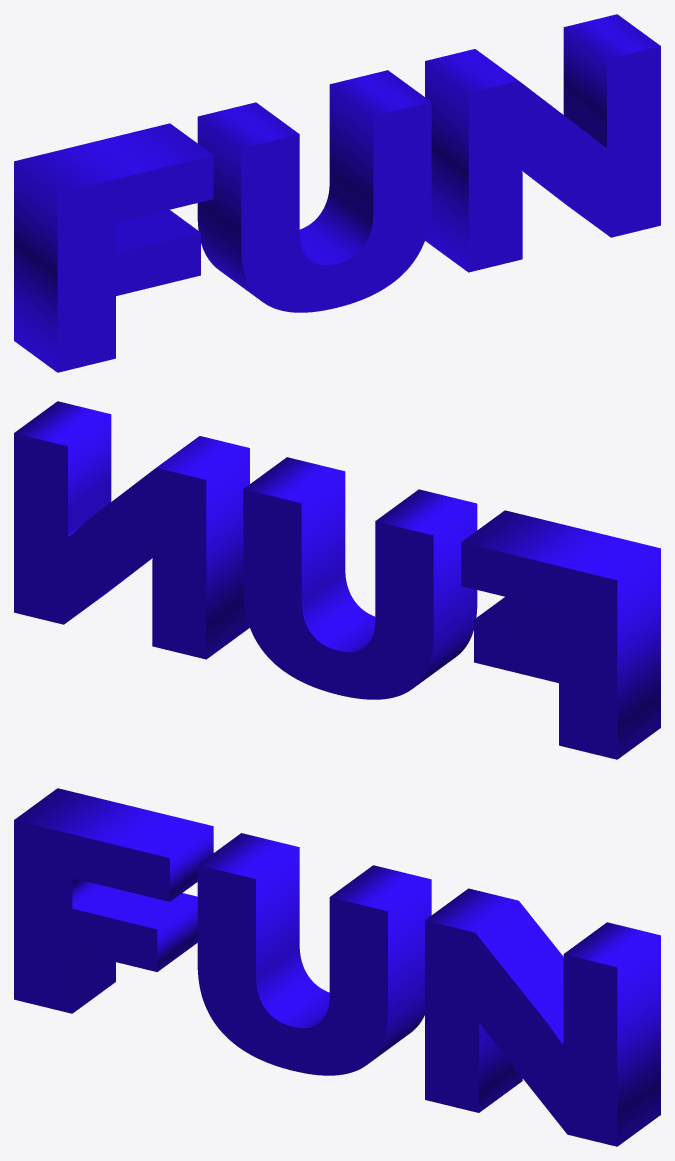
File: fun.glb
The picture shows the model from 3 angles, top to bottom: view 1: azimuth 30°, elevation 25°; view 2: azimuth 150°, elevation 25°; view 3: azimuth 330°, elevation 25°; orthographic projection.
Visible parts, largest first — view 1: Text; view 2: Text; view 3: Text.
Boxes of the visible parts, x1,y1,x2,y2 form: Text: (14,14,660,372); Text: (14,401,660,759); Text: (14,788,660,1146).
Bounding box in the file's own units: 1.6 × 0.4618 × 0.2.
